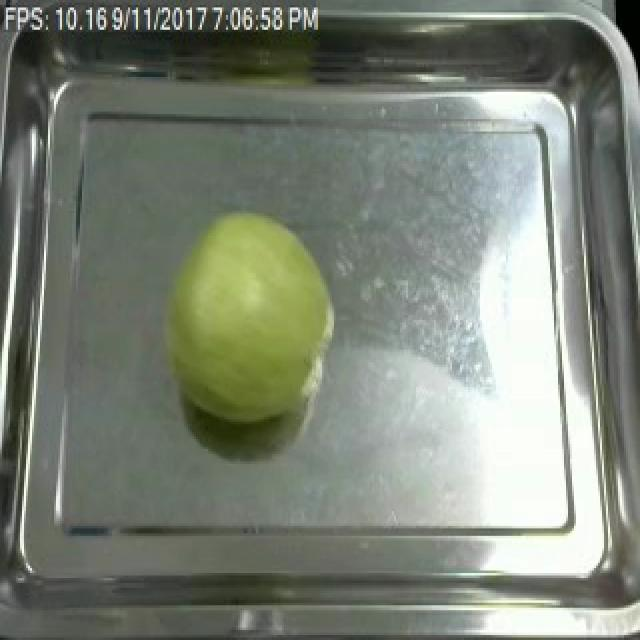Fruit: (150, 206, 344, 432)
